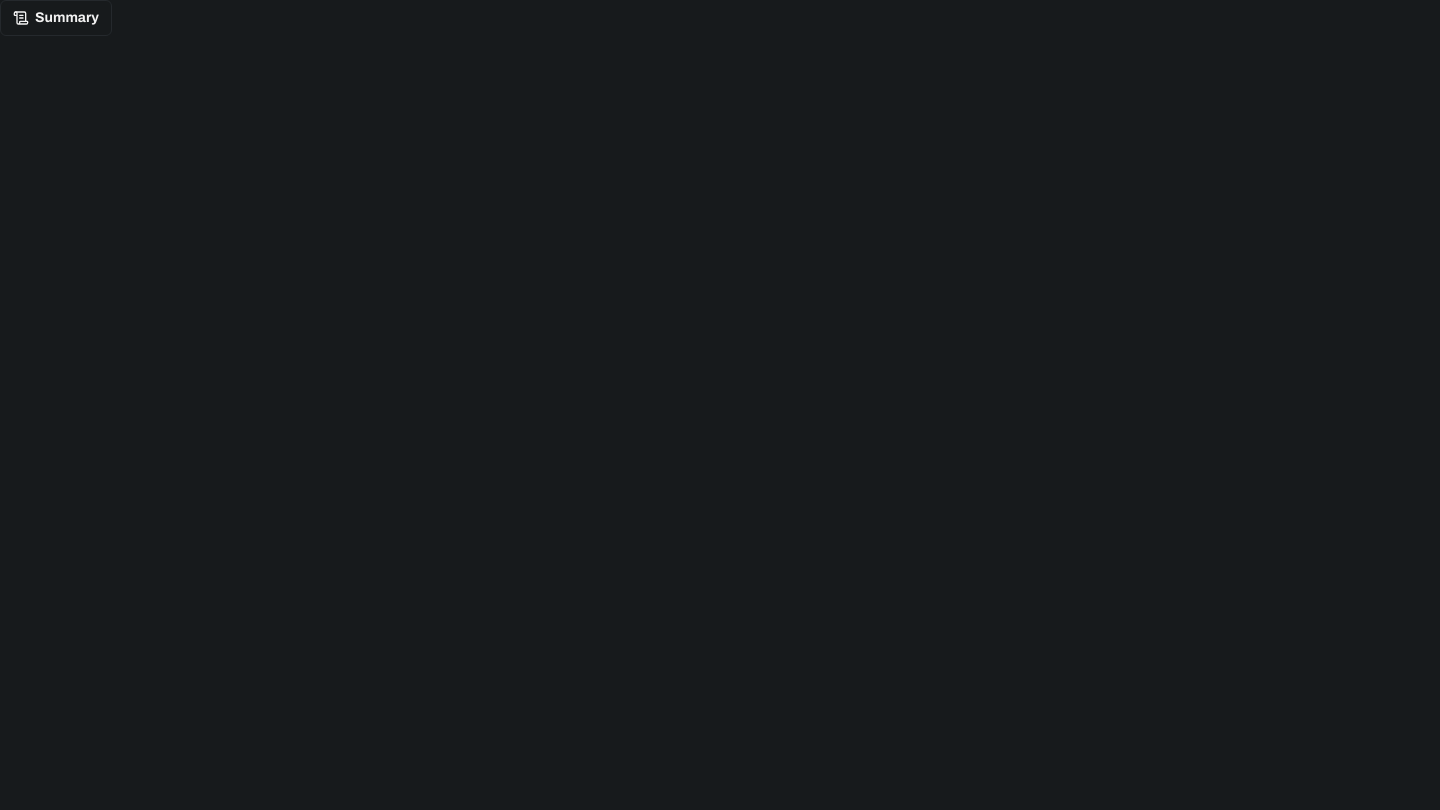
Scenario: the Summary dialog › says a game older than the Summary has none, rather than that nothing has happened
The width and height of the screenshot is (1440, 810).
What coordinates should you click on to do the following:
click the button "Summary"
I would click on:
 (56, 18)
Its box is [0,0,112,36].
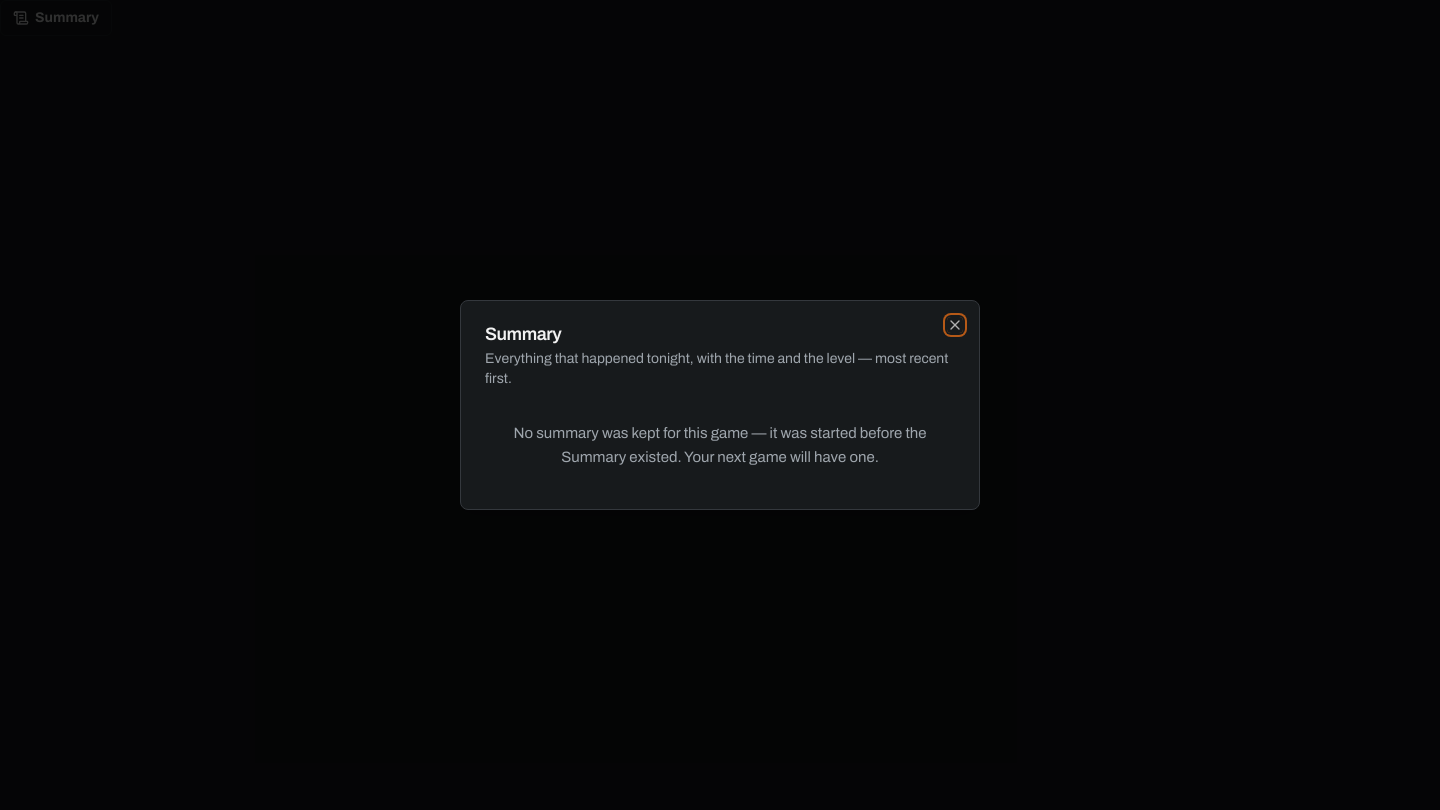
Now the text "started before the Summary existed" is shown, box [514,425,926,465]
